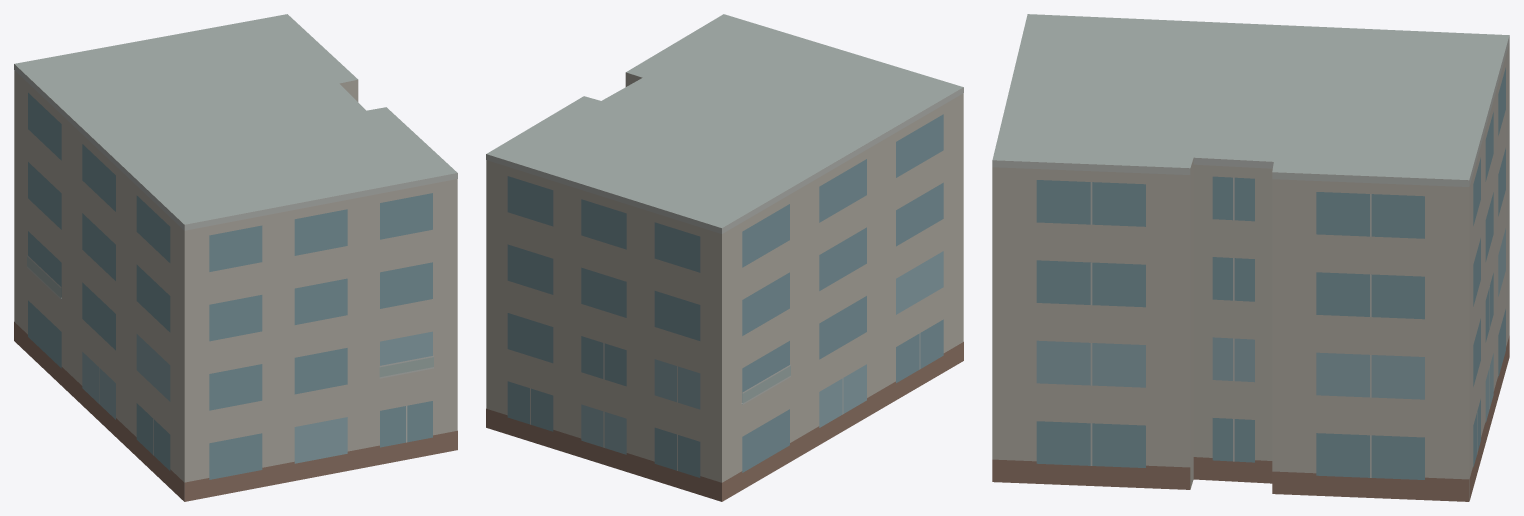
The model's file is survey-upis-32938517.glb.
3 views of the same model, side by side, from view 1: azimuth 30°, elevation 25°; view 2: azimuth 150°, elevation 25°; view 3: azimuth 270°, elevation 25° (orthographic). The views are drawn at different scales.
Visible parts, largest first — view 1: survey-upis-32938517.tmp; view 2: survey-upis-32938517.tmp; view 3: survey-upis-32938517.tmp.
Boxes of the visible parts, <box> form: survey-upis-32938517.tmp: <box>14,14,457,501</box>; survey-upis-32938517.tmp: <box>486,14,963,501</box>; survey-upis-32938517.tmp: <box>992,14,1509,501</box>.
Size of the model in its own units: 12.53 by 11.3 by 16.47.
